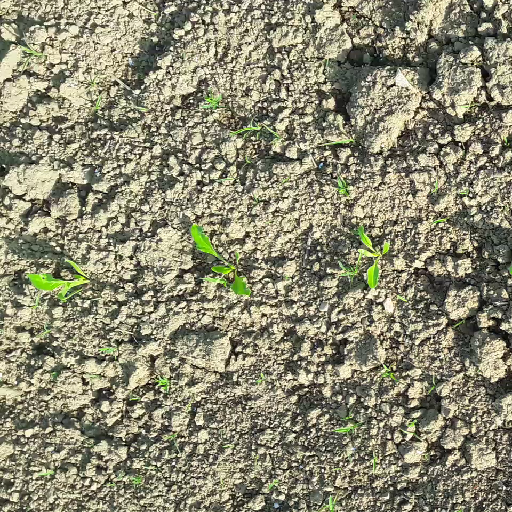sugarbeet: (188, 221, 256, 297), (25, 254, 96, 302), (354, 224, 395, 294)
weed: (13, 34, 49, 70), (230, 122, 288, 141), (333, 248, 364, 278), (331, 416, 364, 434), (87, 77, 103, 114), (317, 136, 360, 149), (398, 420, 423, 442), (378, 361, 401, 384), (201, 89, 225, 111), (202, 276, 234, 289), (103, 477, 146, 486), (320, 494, 341, 512), (422, 370, 437, 395), (335, 173, 350, 195), (371, 453, 381, 479), (153, 375, 170, 390), (97, 343, 118, 353), (37, 323, 51, 337), (431, 176, 441, 194), (268, 477, 283, 489), (241, 156, 256, 167), (432, 216, 447, 226), (166, 433, 179, 442), (38, 469, 54, 476), (458, 188, 471, 195)
